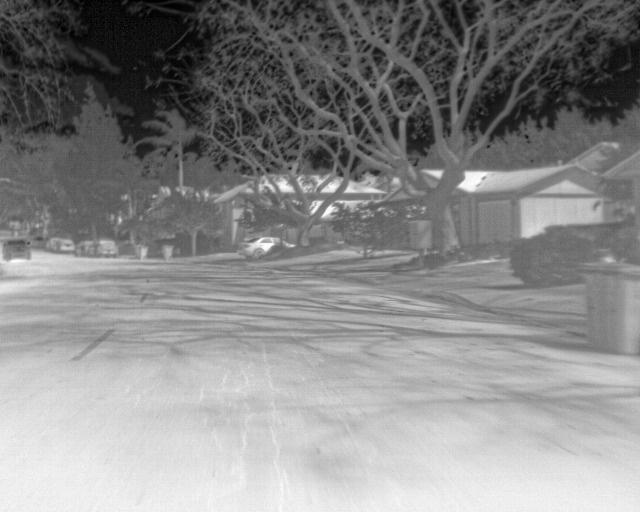car: (237, 234, 279, 258), (2, 236, 30, 262), (94, 238, 120, 258), (78, 239, 98, 256), (56, 236, 75, 251), (43, 236, 59, 249)
